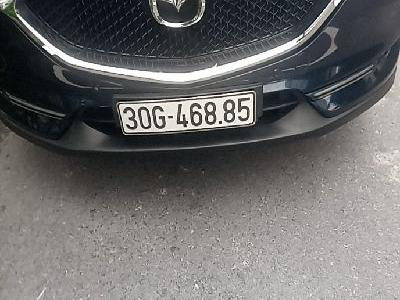number: (116, 92, 256, 135)
